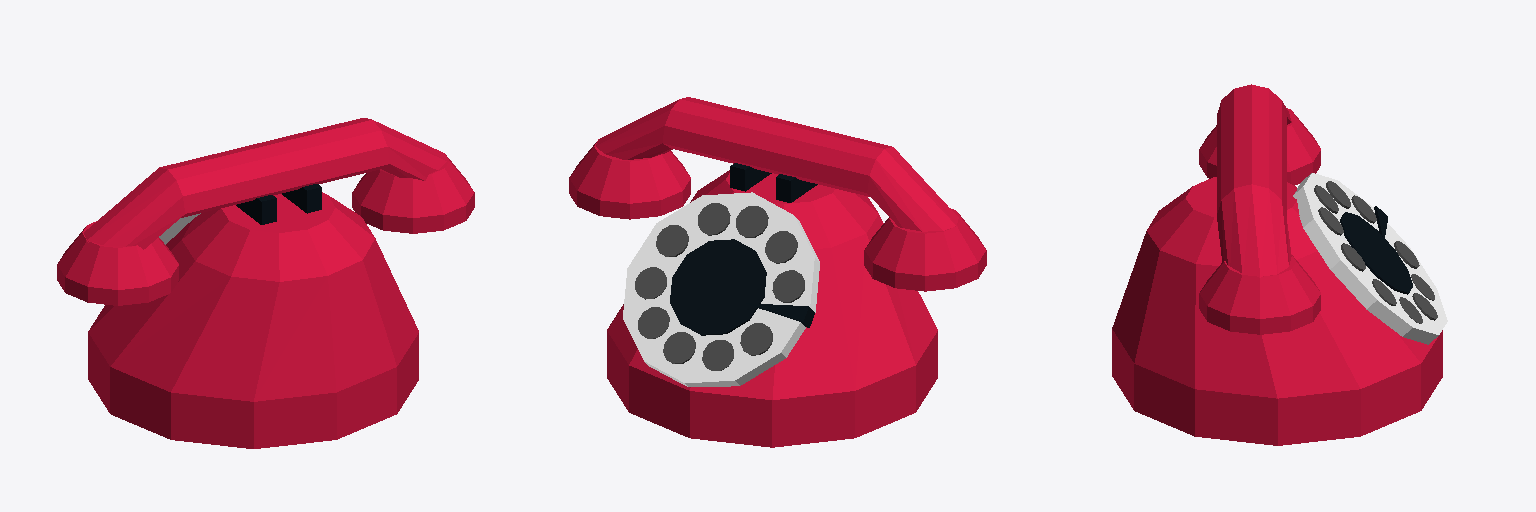
3 views of the same model, side by side, from view 1: azimuth 30°, elevation 25°; view 2: azimuth 150°, elevation 25°; view 3: azimuth 270°, elevation 25° (orthographic).
Parts seen in each view (by area): view 1: group[number redacted], group[number redacted], group[number redacted]; view 2: group[number redacted], group[number redacted], group[number redacted], group[number redacted]; view 3: group[number redacted], group[number redacted], group[number redacted].
Boxes of the visible parts, x1,y1,x2,y2 form: group[number redacted]: [88, 192, 418, 448]; group[number redacted]: [57, 118, 474, 305]; group[number redacted]: [236, 184, 321, 224]; group[number redacted]: [607, 170, 937, 447]; group[number redacted]: [569, 97, 986, 291]; group[number redacted]: [623, 192, 819, 386]; group[number redacted]: [730, 163, 817, 202]; group[number redacted]: [1112, 177, 1442, 445]; group[number redacted]: [1199, 84, 1320, 334]; group[number redacted]: [1293, 173, 1447, 344].
Size of the model in its own units: 0.2655 by 0.154 by 0.1925.